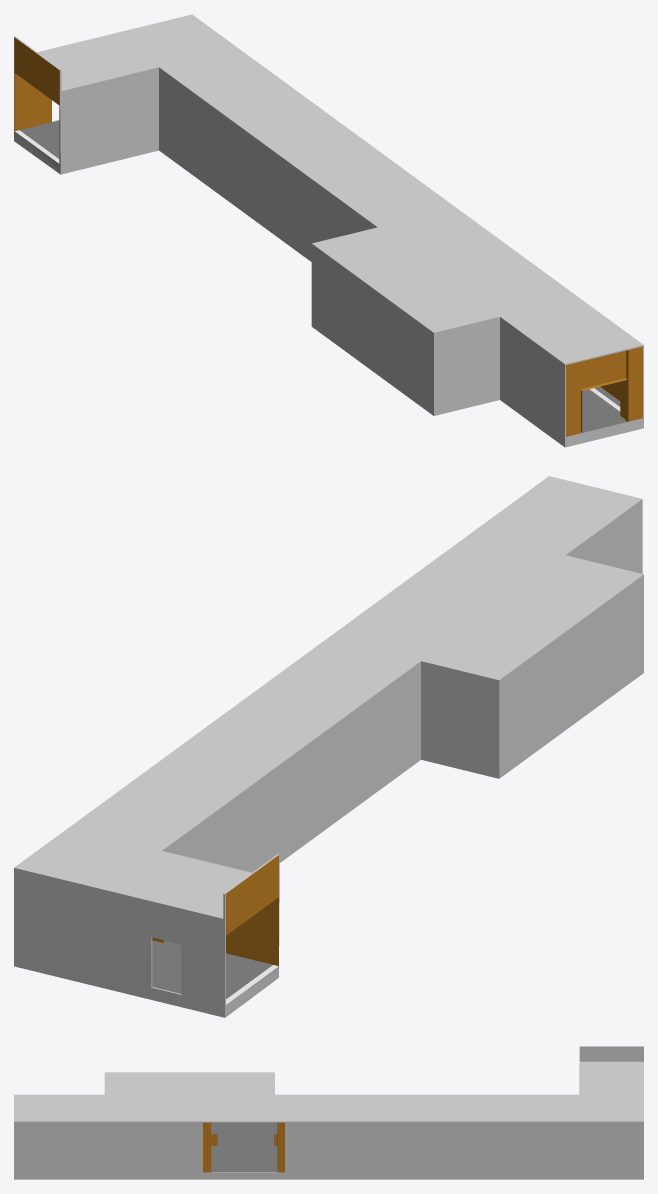
The model's file is SM_H_Building_Tide_Waterway_01_ATLAS.fbx.
3 renders of one model, top to bottom at view 1: azimuth 30°, elevation 25°; view 2: azimuth 150°, elevation 25°; view 3: azimuth 270°, elevation 25°, orthographic. The views are drawn at different scales.
Visible parts, largest first — view 1: SM_H_Building_Tide_Waterway_01_ATLAS; view 2: SM_H_Building_Tide_Waterway_01_ATLAS; view 3: SM_H_Building_Tide_Waterway_01_ATLAS.
Part boxes in pixels (x1,y1,x2,y2): SM_H_Building_Tide_Waterway_01_ATLAS: (14, 14, 643, 447); SM_H_Building_Tide_Waterway_01_ATLAS: (14, 476, 643, 1017); SM_H_Building_Tide_Waterway_01_ATLAS: (14, 1046, 643, 1179).
Size of the model in its own units: 1133 by 4972 by 634.
